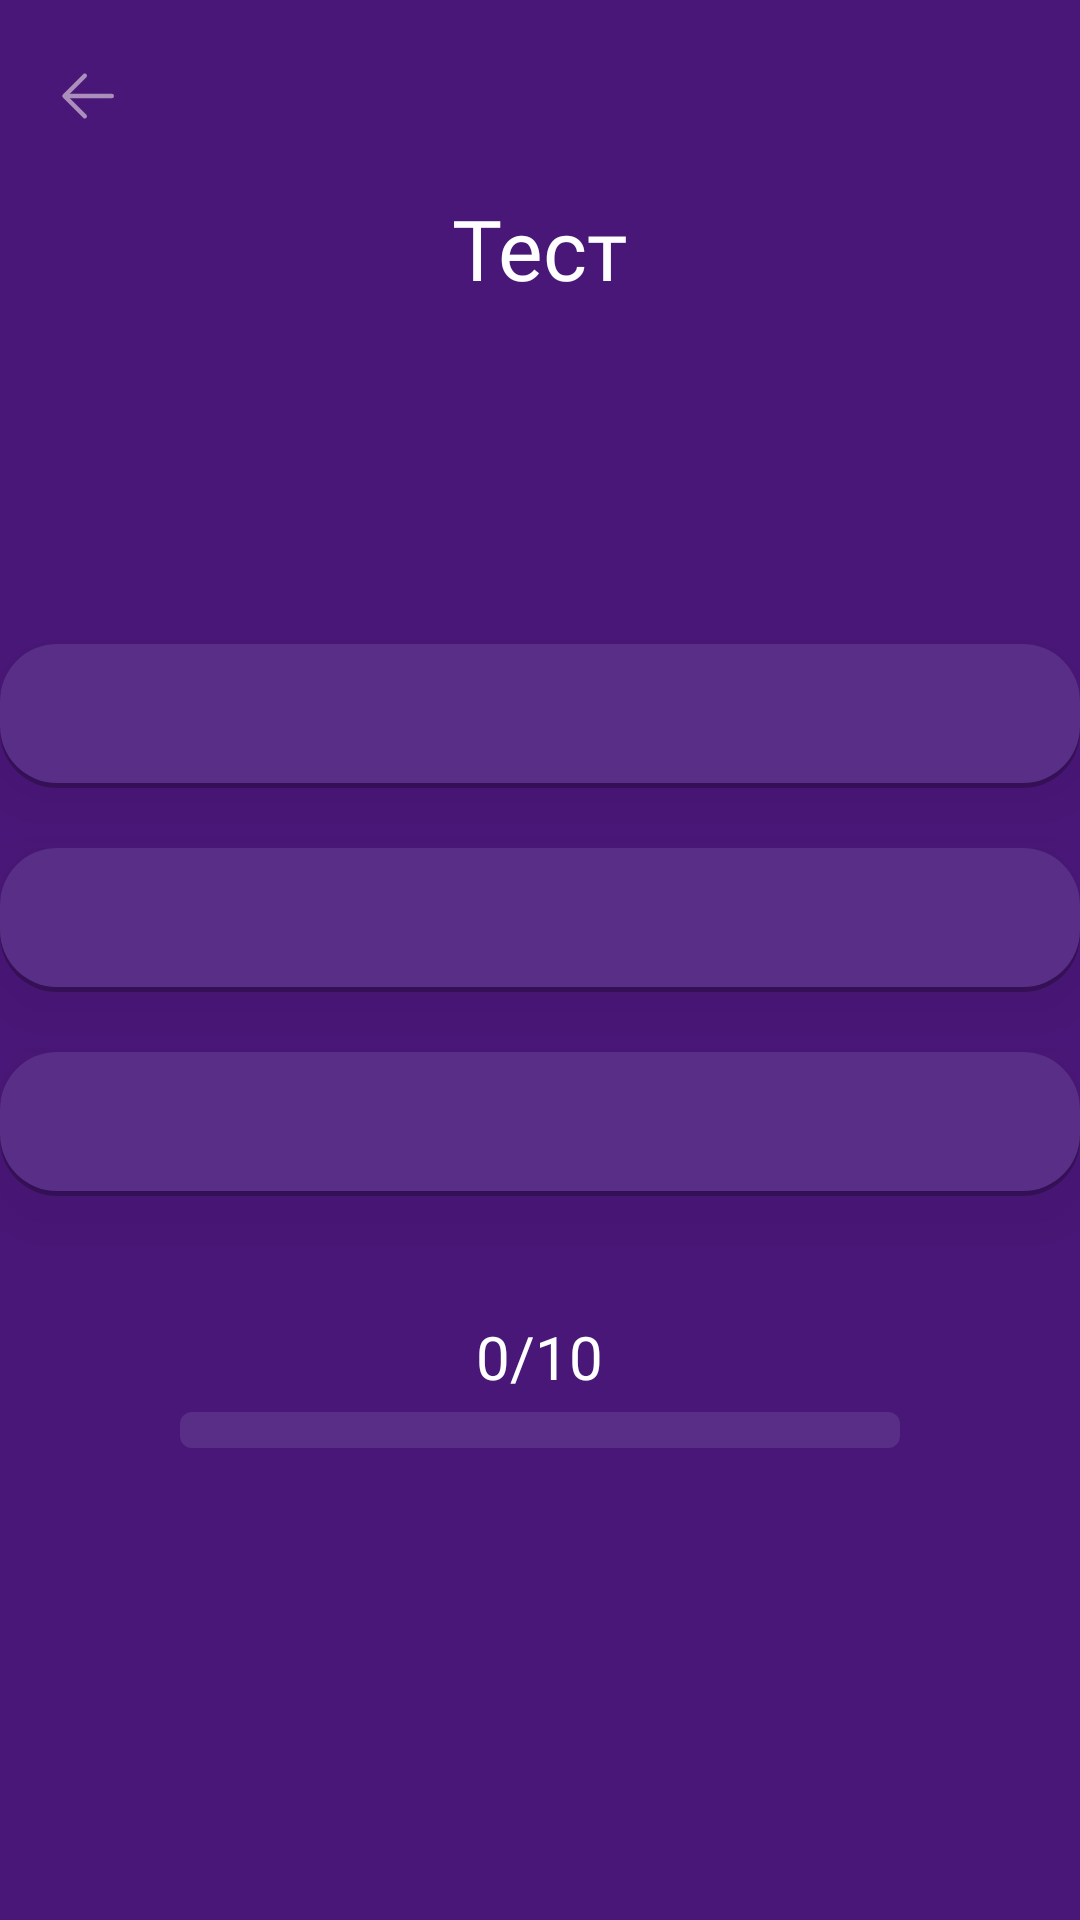

Icons on this 1080*1920 Android screen, each with the point to tap as [x,y]:
back: [88,96]
